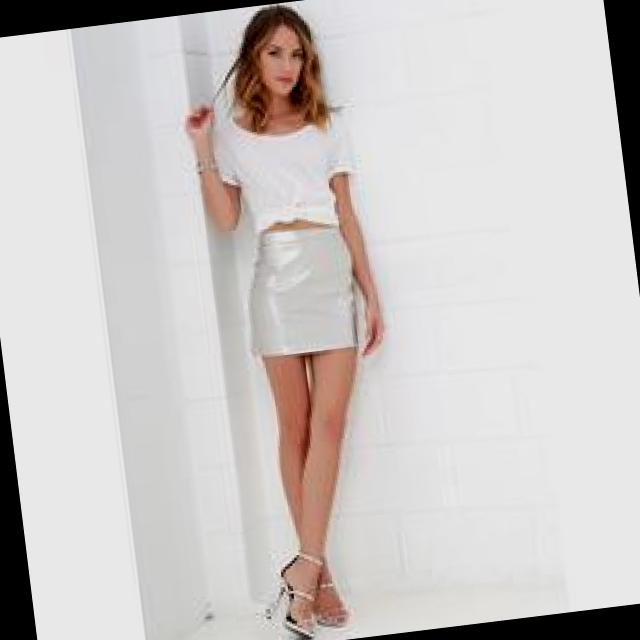Tshirt: (208, 103, 359, 236)
skirt: (237, 225, 366, 358)
